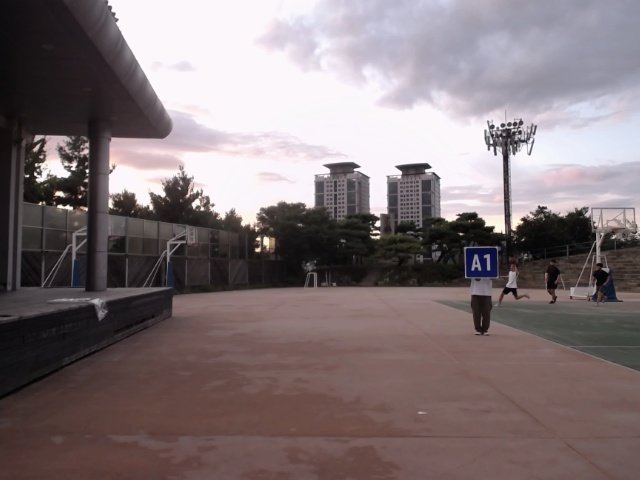delivery_a1: (465, 247, 498, 279)
